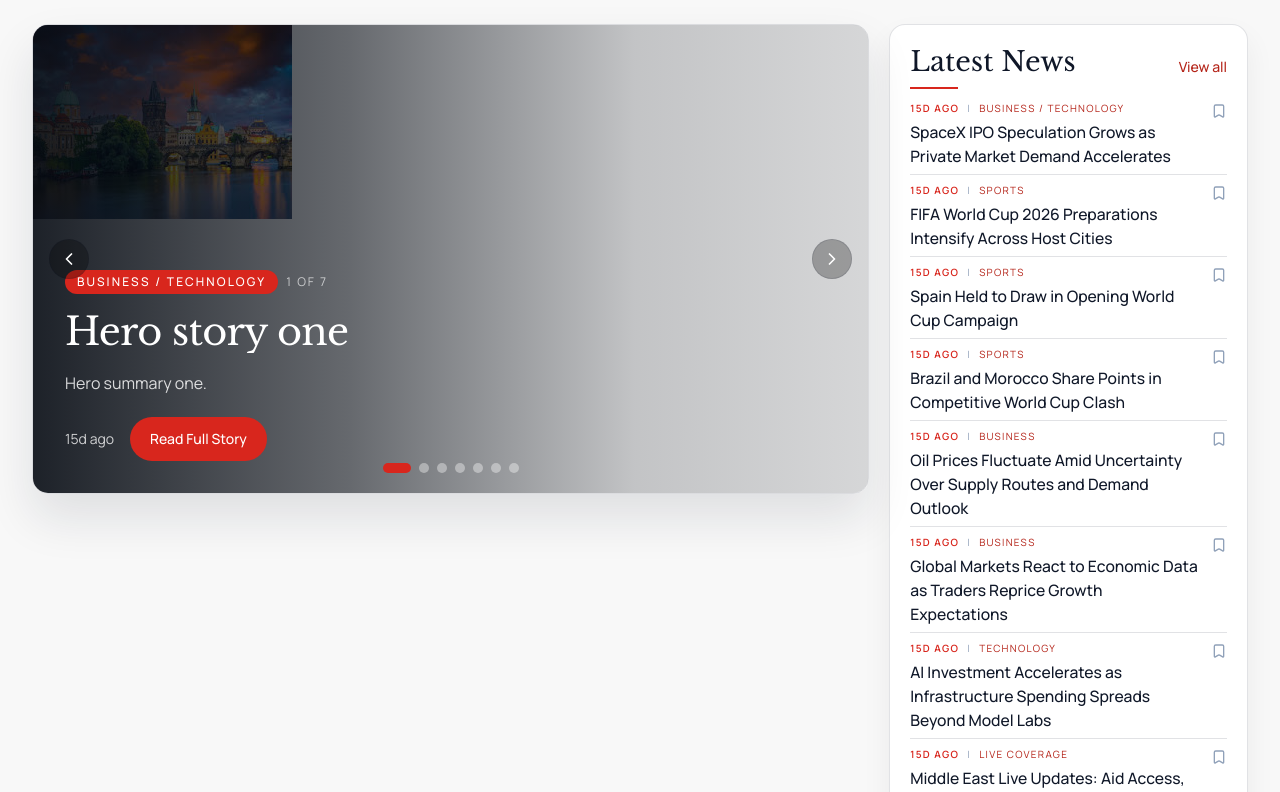
it: Homepage hero carousel › switches slides with arrows and dots, keeps saved slugs, and supports 7 slides
This screenshot has width=1280, height=792.
Expected: the heading "Hero story one" is shown, [65,308,348,355]
Click the button named "Next hero story" at (832, 259), box [812,239,852,279]
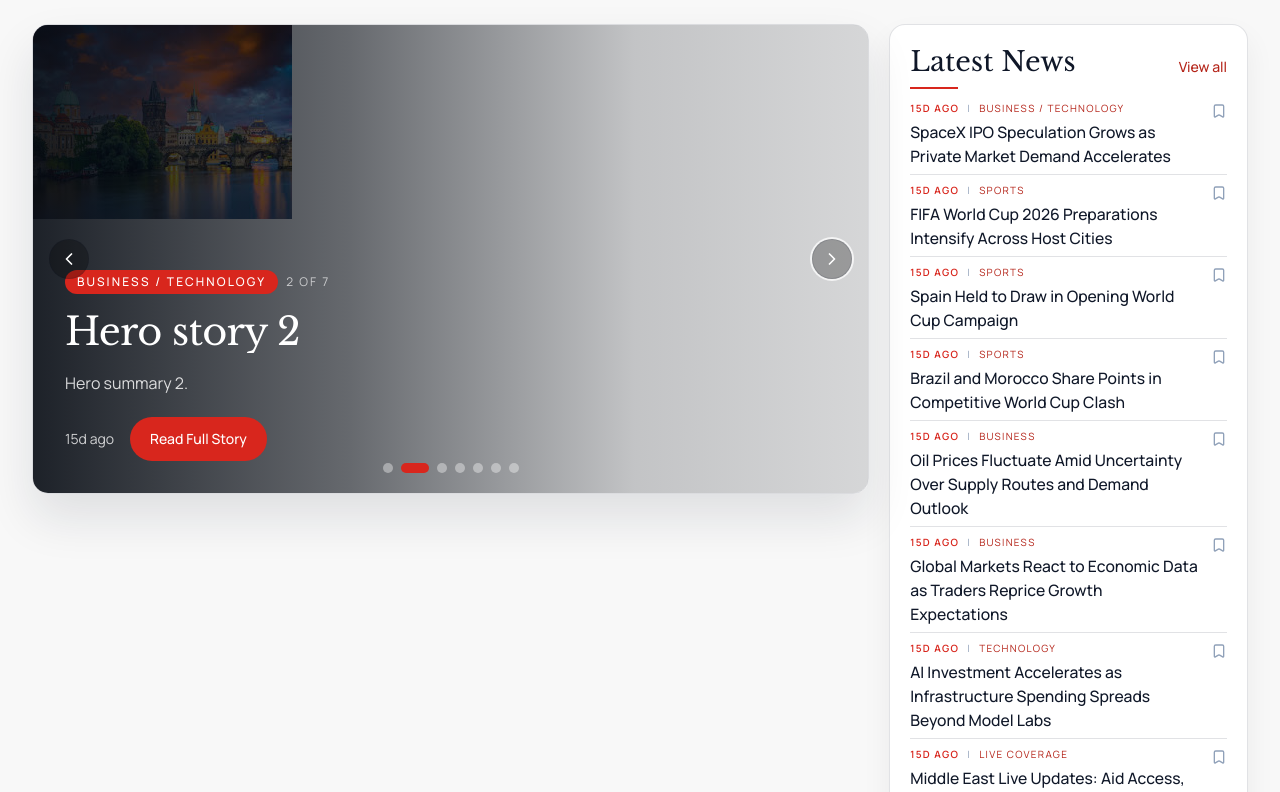
Expected: the heading "Hero story 2" is shown, [65,308,300,355]
Click the button named "Go to hero story 7" at (514, 468), box [509,463,519,473]
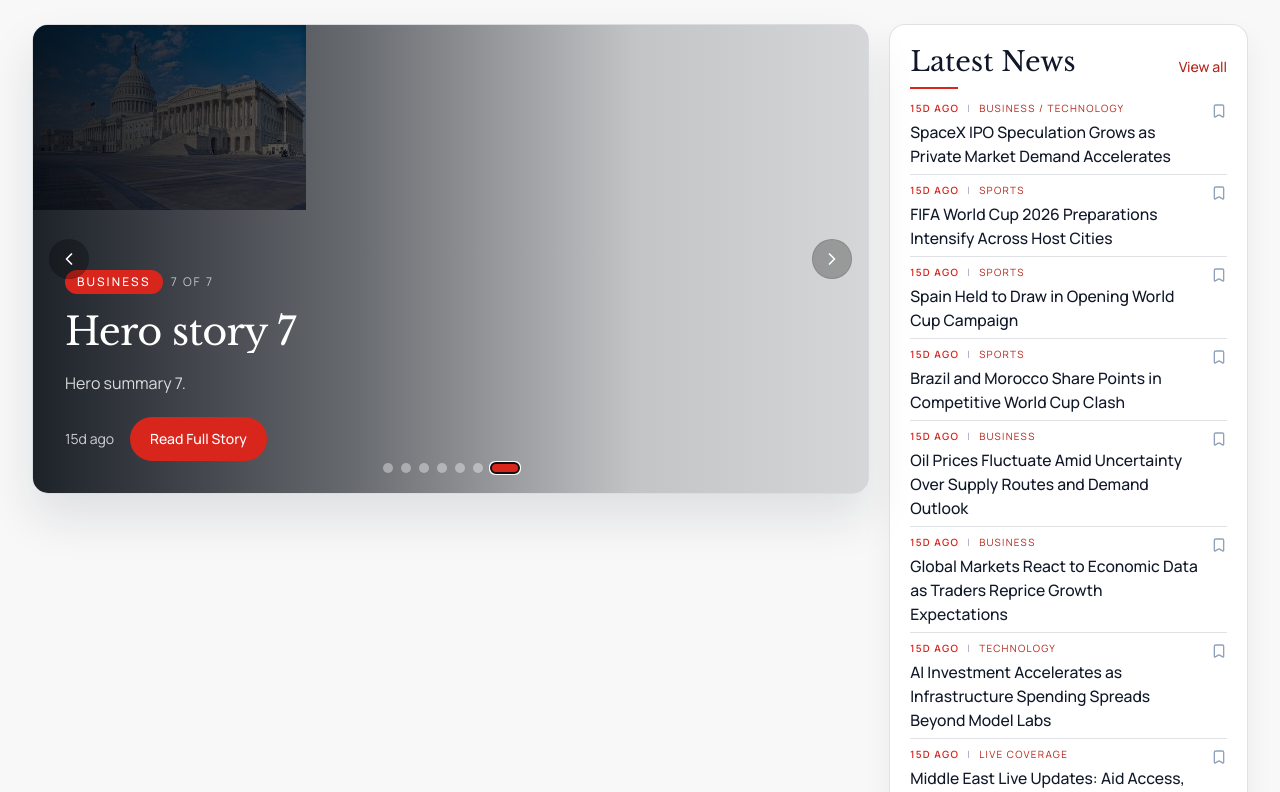
Expected: the heading "Hero story 7" is shown, [65,308,295,355]
